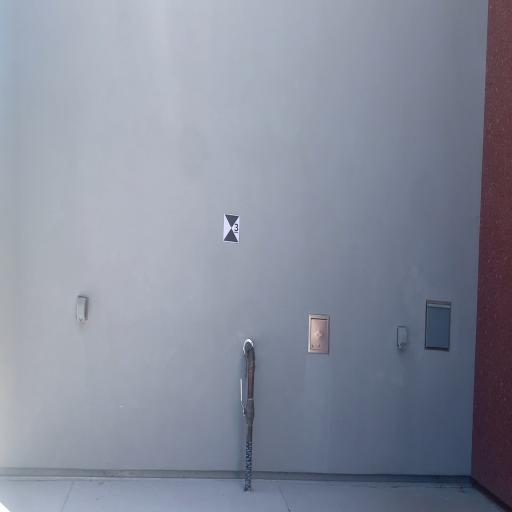target3: (223, 213, 240, 244)
